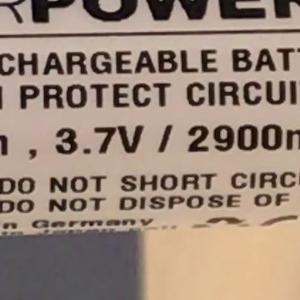keyword: (45, 115, 149, 165)
